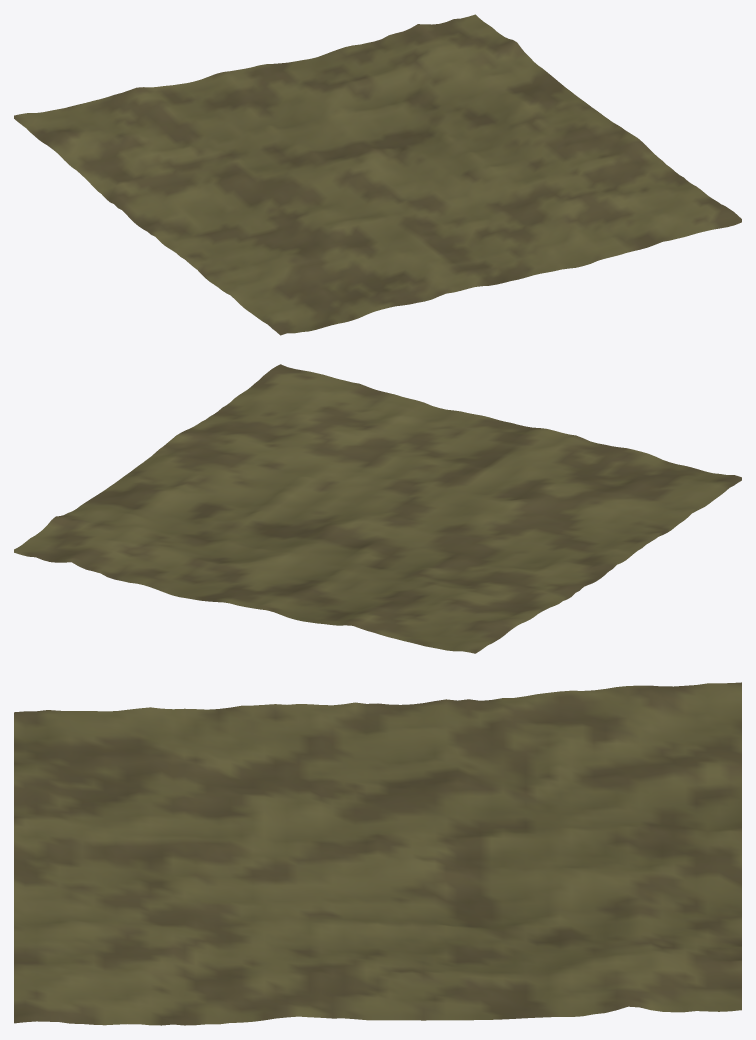
Rendered from land_f_04_03.glb.
3 views of the same model, one above another, from view 1: azimuth 30°, elevation 25°; view 2: azimuth 150°, elevation 25°; view 3: azimuth 270°, elevation 25° (orthographic). The views are drawn at different scales.
Visible parts, largest first — view 1: land_f_04_03; view 2: land_f_04_03; view 3: land_f_04_03.
Boxes of the visible parts, x1,y1,x2,y2 form: land_f_04_03: (14, 14, 741, 335); land_f_04_03: (14, 364, 741, 653); land_f_04_03: (14, 682, 741, 1025).
Bounding box in the file's own units: 3840 × 234 × 3840.
